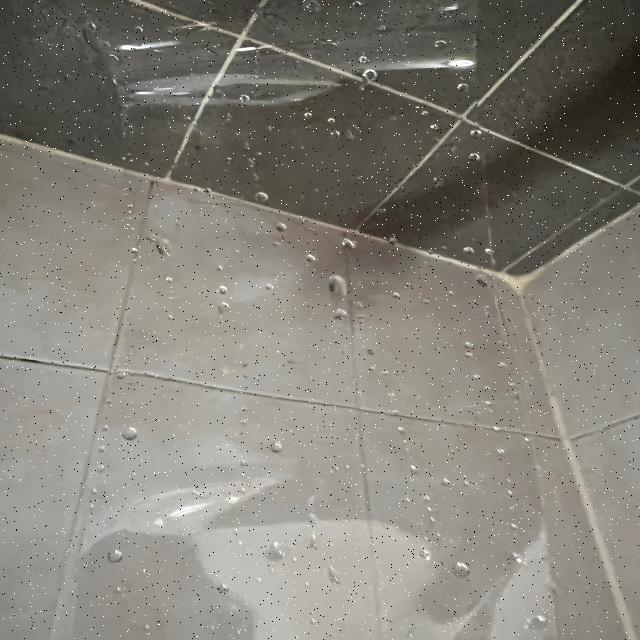raindrop: (510, 612, 547, 633), (95, 548, 128, 566), (468, 268, 491, 292), (450, 559, 474, 581), (329, 272, 347, 298), (388, 419, 414, 437), (265, 541, 285, 561), (216, 297, 235, 316), (340, 233, 359, 252), (506, 548, 525, 566), (251, 188, 270, 206), (324, 566, 340, 586), (303, 532, 320, 550), (213, 282, 232, 298), (430, 171, 447, 188), (462, 334, 478, 352), (417, 547, 433, 562), (304, 493, 319, 508), (215, 581, 230, 596), (493, 450, 513, 461), (298, 252, 316, 264), (302, 511, 318, 524), (398, 464, 418, 474), (498, 359, 513, 371), (485, 422, 503, 432), (268, 441, 284, 452), (505, 522, 519, 534), (459, 246, 474, 257), (124, 425, 134, 441), (140, 567, 150, 575), (439, 481, 449, 487)
